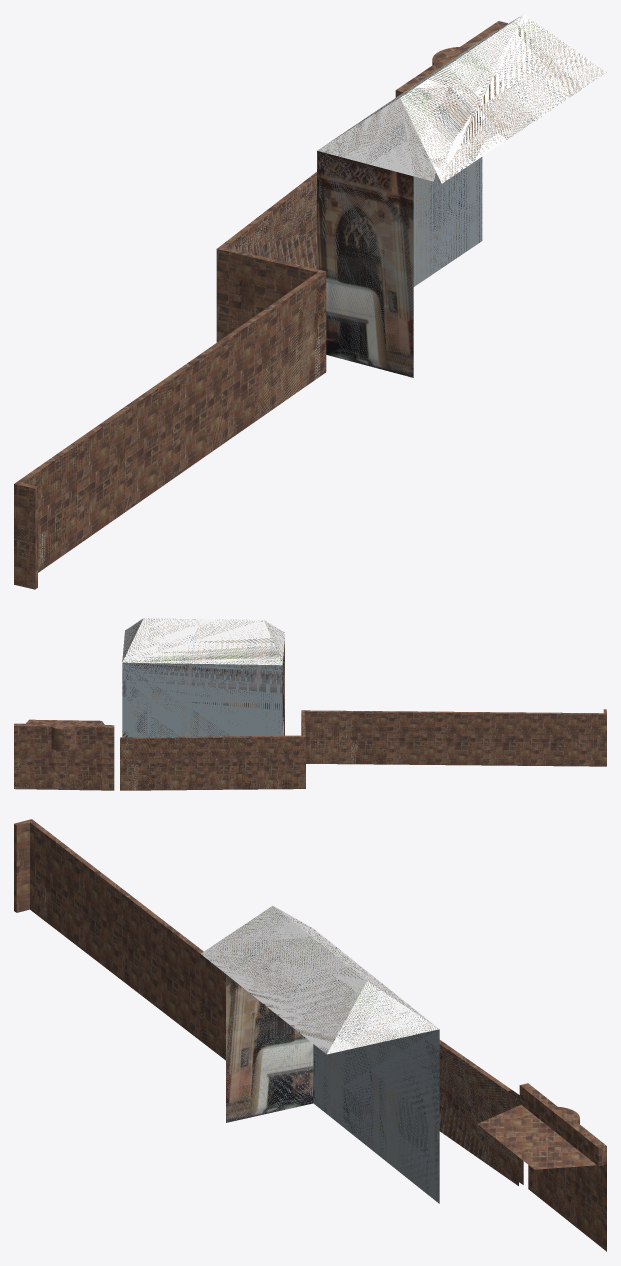
The model's file is chapelleL.obj.
3 renders of one model, top to bottom at view 1: azimuth 30°, elevation 25°; view 2: azimuth 150°, elevation 25°; view 3: azimuth 270°, elevation 25°, orthographic. The views are drawn at different scales.
Parts seen in each view (by area): view 1: Mesh5 Group2 Chapelle_St_Laurent Model, Mesh2 Group1 Chapelle_St_Laurent Model, Mesh1 Group1 Chapelle_St_Laurent Model; view 2: Mesh2 Group1 Chapelle_St_Laurent Model, Mesh5 Group2 Chapelle_St_Laurent Model, Mesh1 Group1 Chapelle_St_Laurent Model; view 3: Mesh5 Group2 Chapelle_St_Laurent Model, Mesh2 Group1 Chapelle_St_Laurent Model, Mesh1 Group1 Chapelle_St_Laurent Model.
Part boxes in pixels (<box>): Mesh5 Group2 Chapelle_St_Laurent Model: <box>317,14,606,377</box>; Mesh2 Group1 Chapelle_St_Laurent Model: <box>14,172,326,589</box>; Mesh1 Group1 Chapelle_St_Laurent Model: <box>395,21,507,97</box>; Mesh2 Group1 Chapelle_St_Laurent Model: <box>120,709,606,790</box>; Mesh5 Group2 Chapelle_St_Laurent Model: <box>122,618,285,737</box>; Mesh1 Group1 Chapelle_St_Laurent Model: <box>14,719,114,790</box>; Mesh5 Group2 Chapelle_St_Laurent Model: <box>201,905,439,1203</box>; Mesh2 Group1 Chapelle_St_Laurent Model: <box>14,819,523,1185</box>; Mesh1 Group1 Chapelle_St_Laurent Model: <box>478,1083,606,1251</box>.
Bounding box in the file's own units: 71.72 × 21.28 × 51.25.
